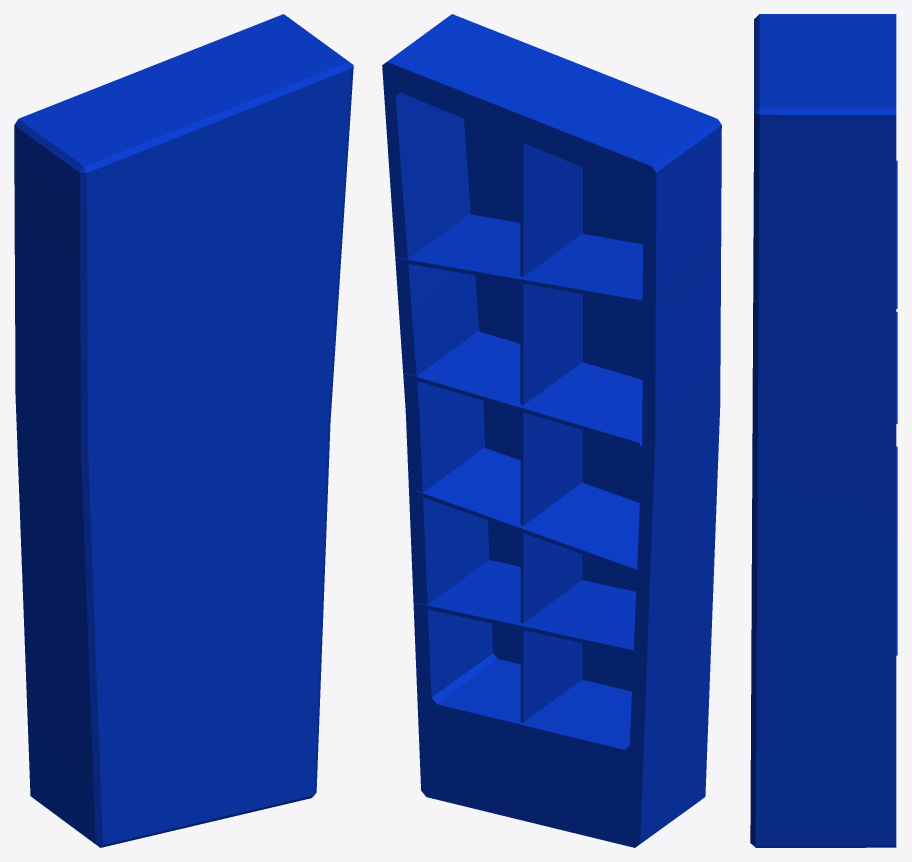
The model's file is Bg_Bookshelf_Hi_0101.fbx.
3 renders of one model, left to right at view 1: azimuth 30°, elevation 25°; view 2: azimuth 150°, elevation 25°; view 3: azimuth 270°, elevation 25°, orthographic. The views are drawn at different scales.
Visible parts, largest first — view 1: polySurface156; view 2: polySurface156, polySurface157, polySurface159, polySurface160, polySurface158, polySurface161; view 3: polySurface156.
Part boxes in pixels (x1,y1,x2,y2): polySurface156: (14, 14, 353, 847); polySurface156: (382, 14, 721, 847); polySurface157: (520, 142, 582, 722); polySurface159: (404, 331, 642, 446); polySurface160: (416, 447, 639, 573); polySurface158: (396, 214, 643, 304); polySurface161: (416, 560, 638, 655); polySurface156: (750, 14, 896, 847).
Size of the model in its own units: 0.5851 by 1.48 by 0.2595.
